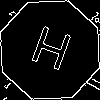H: (25, 25, 75, 80)
